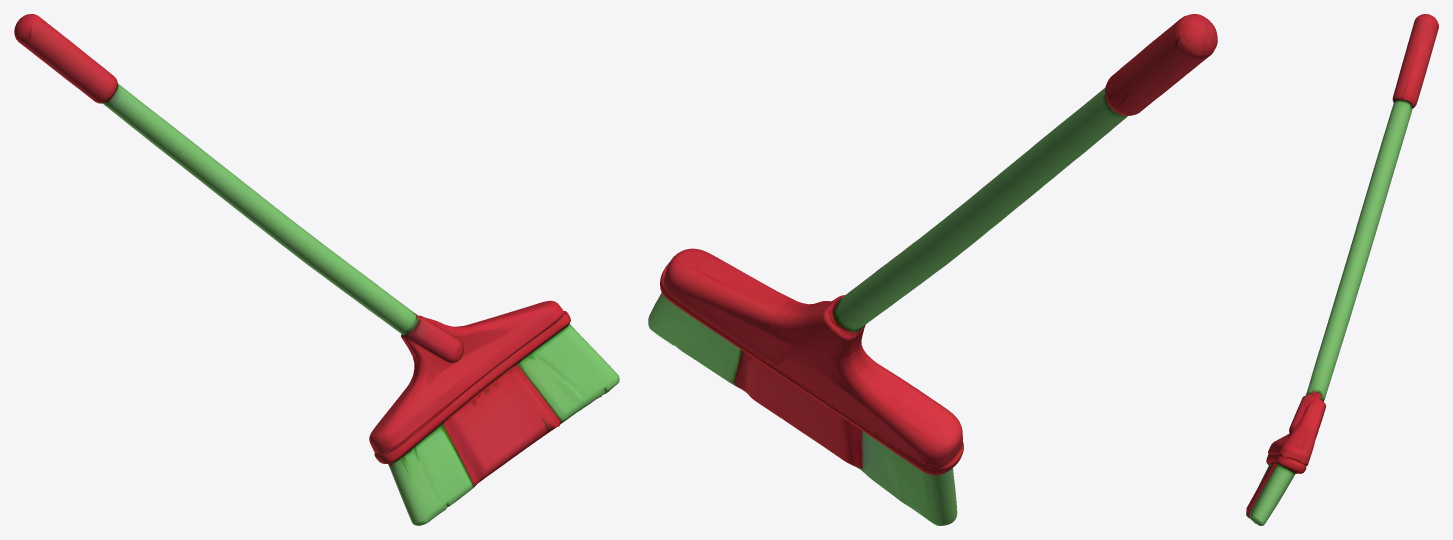
File: broom.glb
The picture shows the model from 3 angles, left to right: view 1: azimuth 30°, elevation 25°; view 2: azimuth 150°, elevation 25°; view 3: azimuth 270°, elevation 25°; orthographic projection. The views are drawn at different scales.
Parts seen in each view (by area): view 1: material; view 2: material; view 3: material.
Part boxes in pixels (box(x1,y1,x2,y2)): material: box(14, 14, 619, 525); material: box(648, 14, 1217, 525); material: box(1246, 14, 1438, 525).
Size of the model in its own units: 0.8502 by 0.8174 by 0.3603.
Materials: 1 (1 with a texture image).
